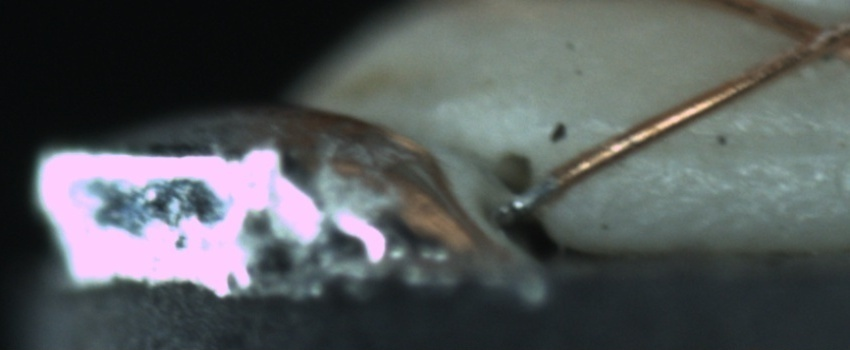CL: (772, 3, 848, 69)
DL: (638, 104, 845, 180)
TS: (503, 170, 566, 220)
